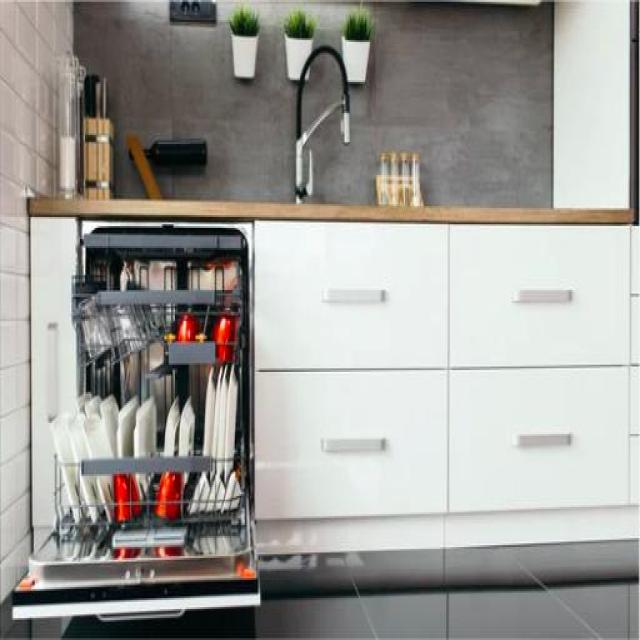dishwasher: (12, 219, 262, 620)
